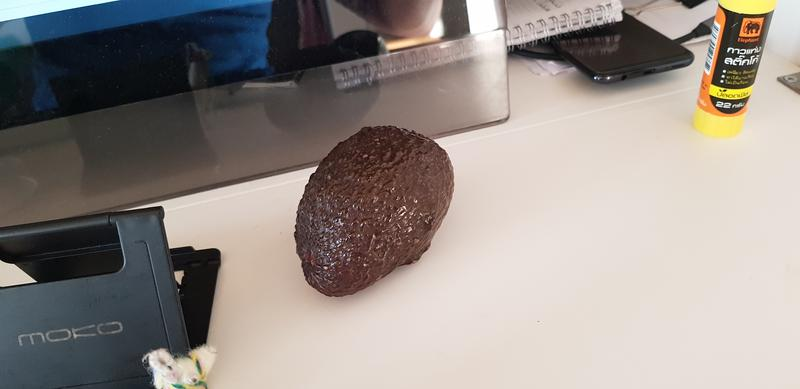Avocado: (293, 115, 469, 313)
Glue-Stick: (679, 1, 782, 142)
